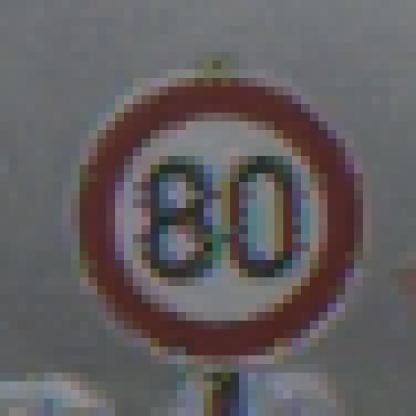Speed Limit 80: (82, 82, 360, 356)
